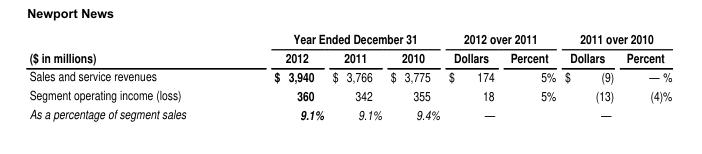table: (28, 29, 671, 122)
table column: (28, 29, 229, 122), (229, 29, 327, 122), (559, 29, 619, 122), (327, 29, 385, 122), (385, 29, 443, 122), (443, 29, 501, 122), (501, 29, 559, 122), (619, 29, 671, 122)
table column header: (28, 29, 671, 66)
table row: (28, 47, 671, 66), (28, 66, 671, 85), (28, 85, 671, 104), (28, 29, 671, 47), (28, 104, 671, 122)
table spanning cell: (28, 29, 229, 66), (229, 29, 443, 47), (443, 29, 559, 47), (559, 29, 671, 47)
